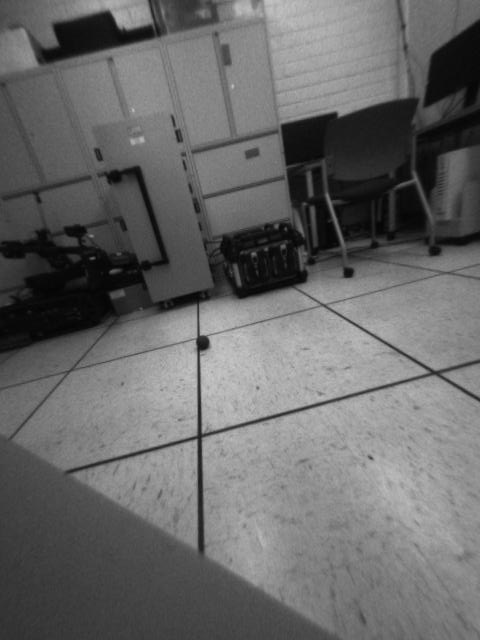dogtoy: (188, 324, 224, 358)
